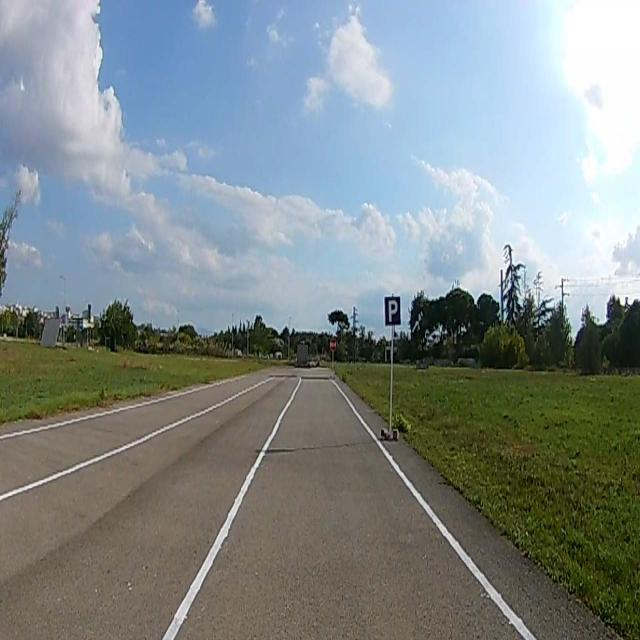park: (384, 297, 400, 325)
